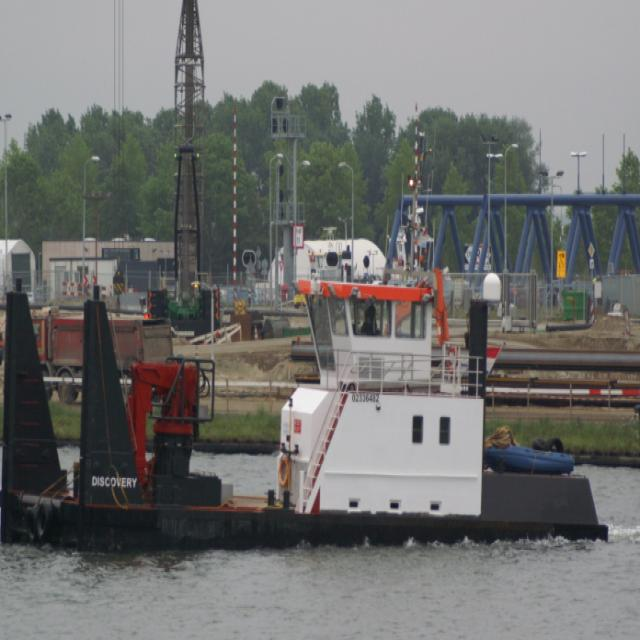tugboat: (1, 238, 612, 573)
